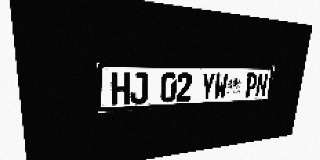0: (160, 73, 177, 103)
2: (176, 73, 192, 102)
H: (111, 72, 130, 105)
J: (130, 72, 148, 104)
N: (255, 73, 268, 97)
P: (244, 73, 258, 98)
W: (213, 73, 228, 100)
Y: (200, 73, 215, 100)
